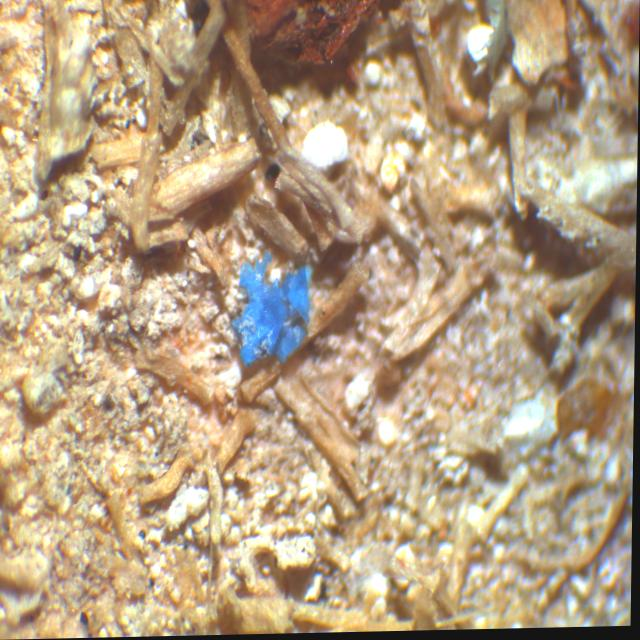microplastic: (226, 249, 315, 369)
